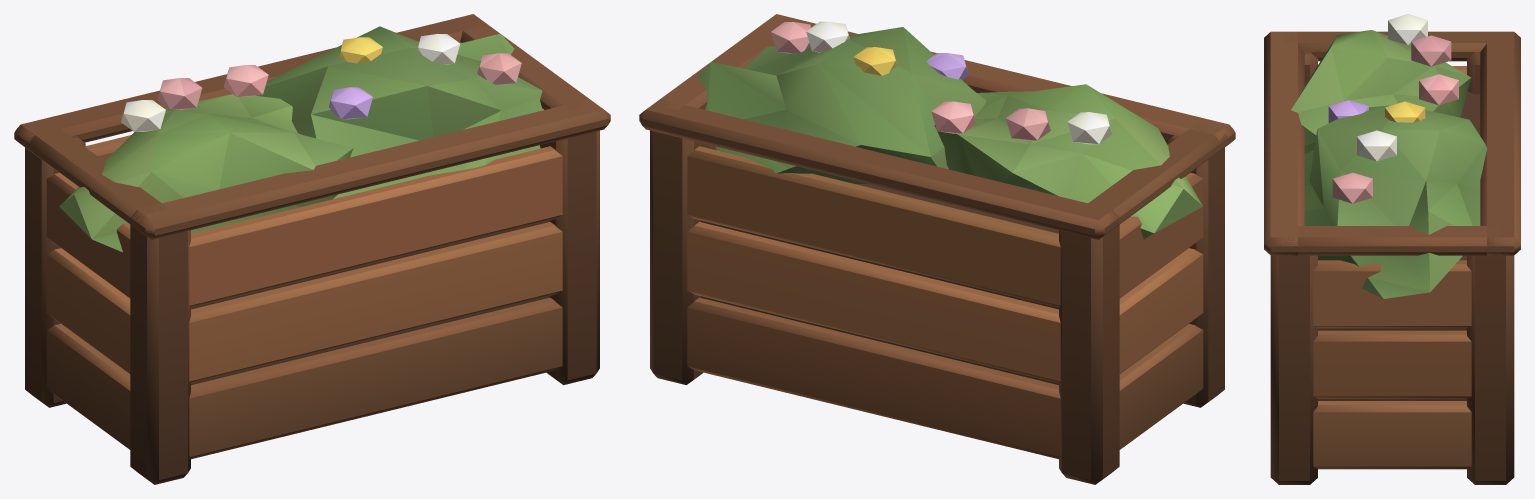
The model's file is planter.glb.
3 renders of one model, left to right at view 1: azimuth 30°, elevation 25°; view 2: azimuth 150°, elevation 25°; view 3: azimuth 270°, elevation 25°, orthographic. The views are drawn at different scales.
Visible parts, largest first — view 1: planter; view 2: planter; view 3: planter.
Part boxes in pixels (x1=…): planter: x1=14, y1=14, x2=610, y2=484; planter: x1=639, y1=14, x2=1235, y2=484; planter: x1=1264, y1=14, x2=1520, y2=484.
Size of the model in its own units: 0.7932 by 0.5036 by 0.38.
